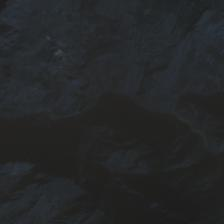landslides: (54, 49, 80, 67), (62, 12, 79, 20)
